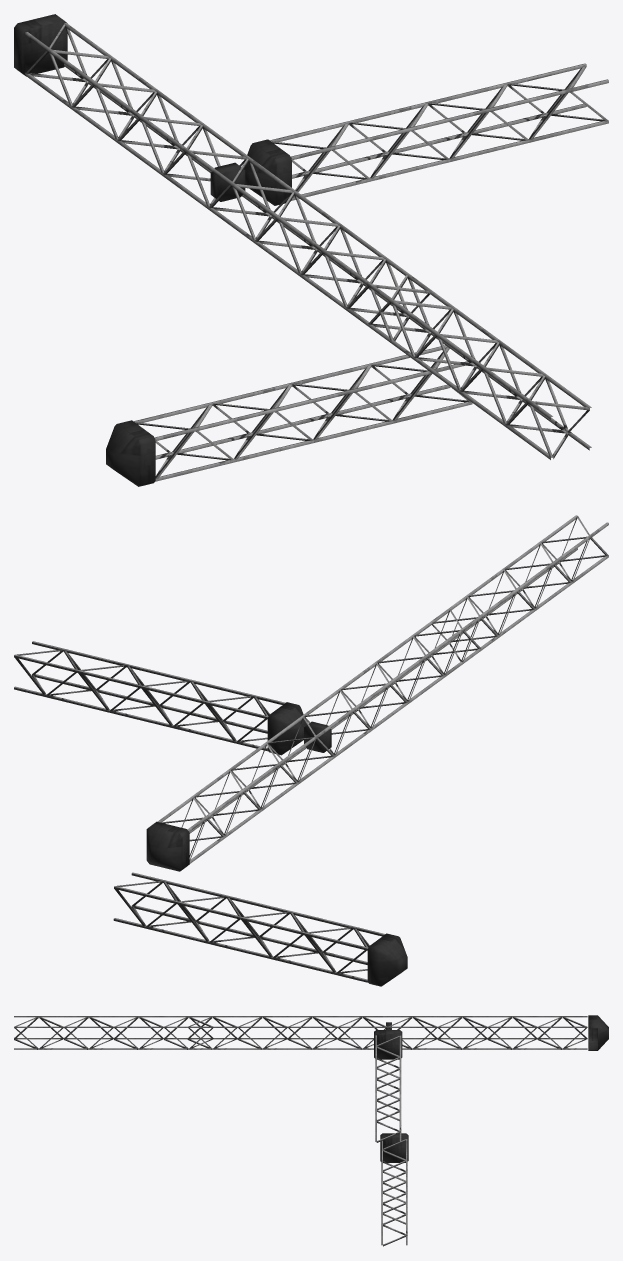
Rendered from OBJ_Scaffolds_SecA.FBX.
3 renders of one model, top to bottom at view 1: azimuth 30°, elevation 25°; view 2: azimuth 150°, elevation 25°; view 3: azimuth 270°, elevation 25°, orthographic. The views are drawn at different scales.
Parts seen in each view (by area): view 1: Mesh; view 2: Mesh; view 3: Mesh.
Boxes of the visible parts, x1,y1,x2,y2 form: Mesh: (14,14,608,486); Mesh: (14,515,608,986); Mesh: (14,1015,608,1246).
Bounding box in the file's own units: 24.76 × 14.76 × 48.55.
Materials: 1 (1 with a texture image).
